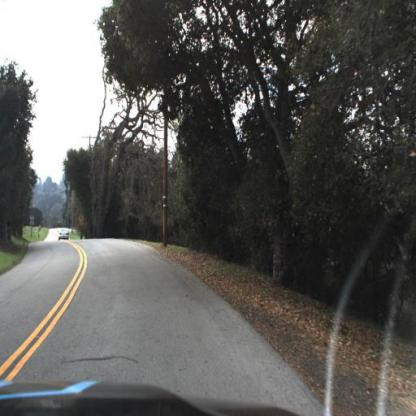car: (56, 221, 74, 247)
